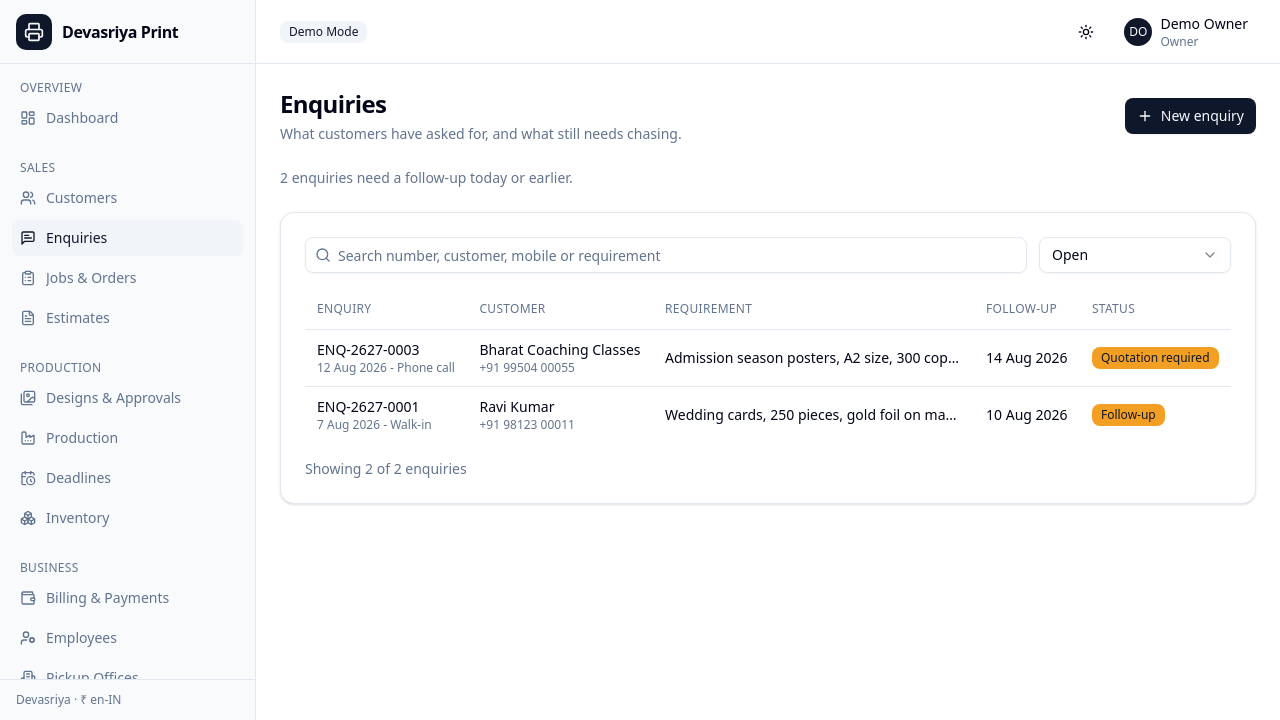
Scenario: demo enquiries › finds an enquiry by the customer mobile number
Expected: the table is shown, [305,289,1231,442]
Type "9950400055" into the field named "Search enquiries".
click(666, 255); type("9950400055")  # box [305,237,1027,273]
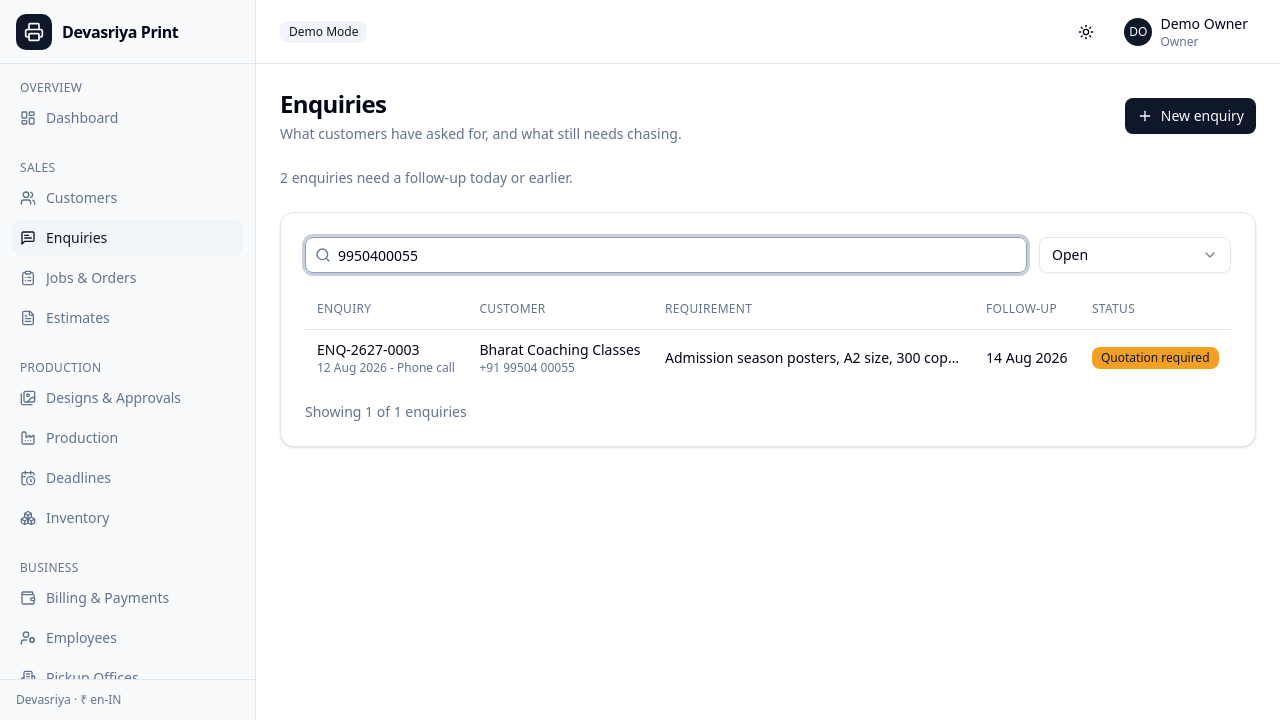
Expected: the link "ENQ-2627-0003" is shown, [317,340,420,358]
Expected: the link "ENQ-2627-0001" is gone
